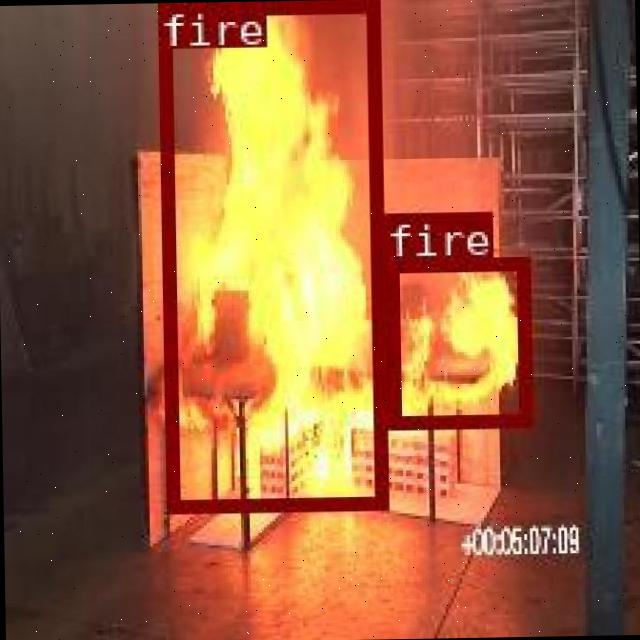fire: (156, 0, 385, 509), (384, 256, 529, 428)
